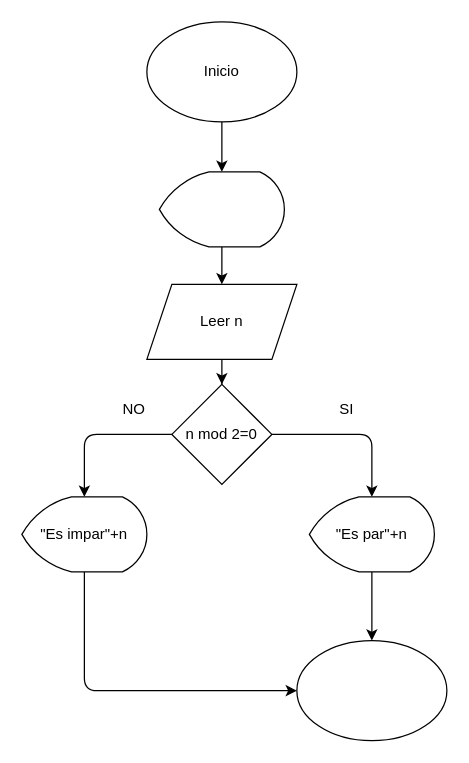
Image size: 469x763. Some labels were removed from this diagram. The centre of each missing label's shape, as x and y in pixels:
"Fin" belongs at (371,690).
"Ingresa el número" belongs at (221,209).
